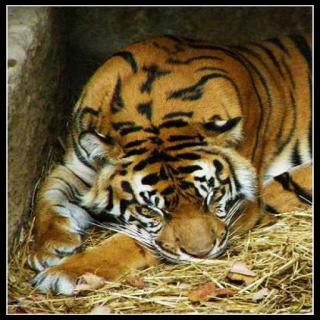Tiger: (16, 25, 310, 302)
